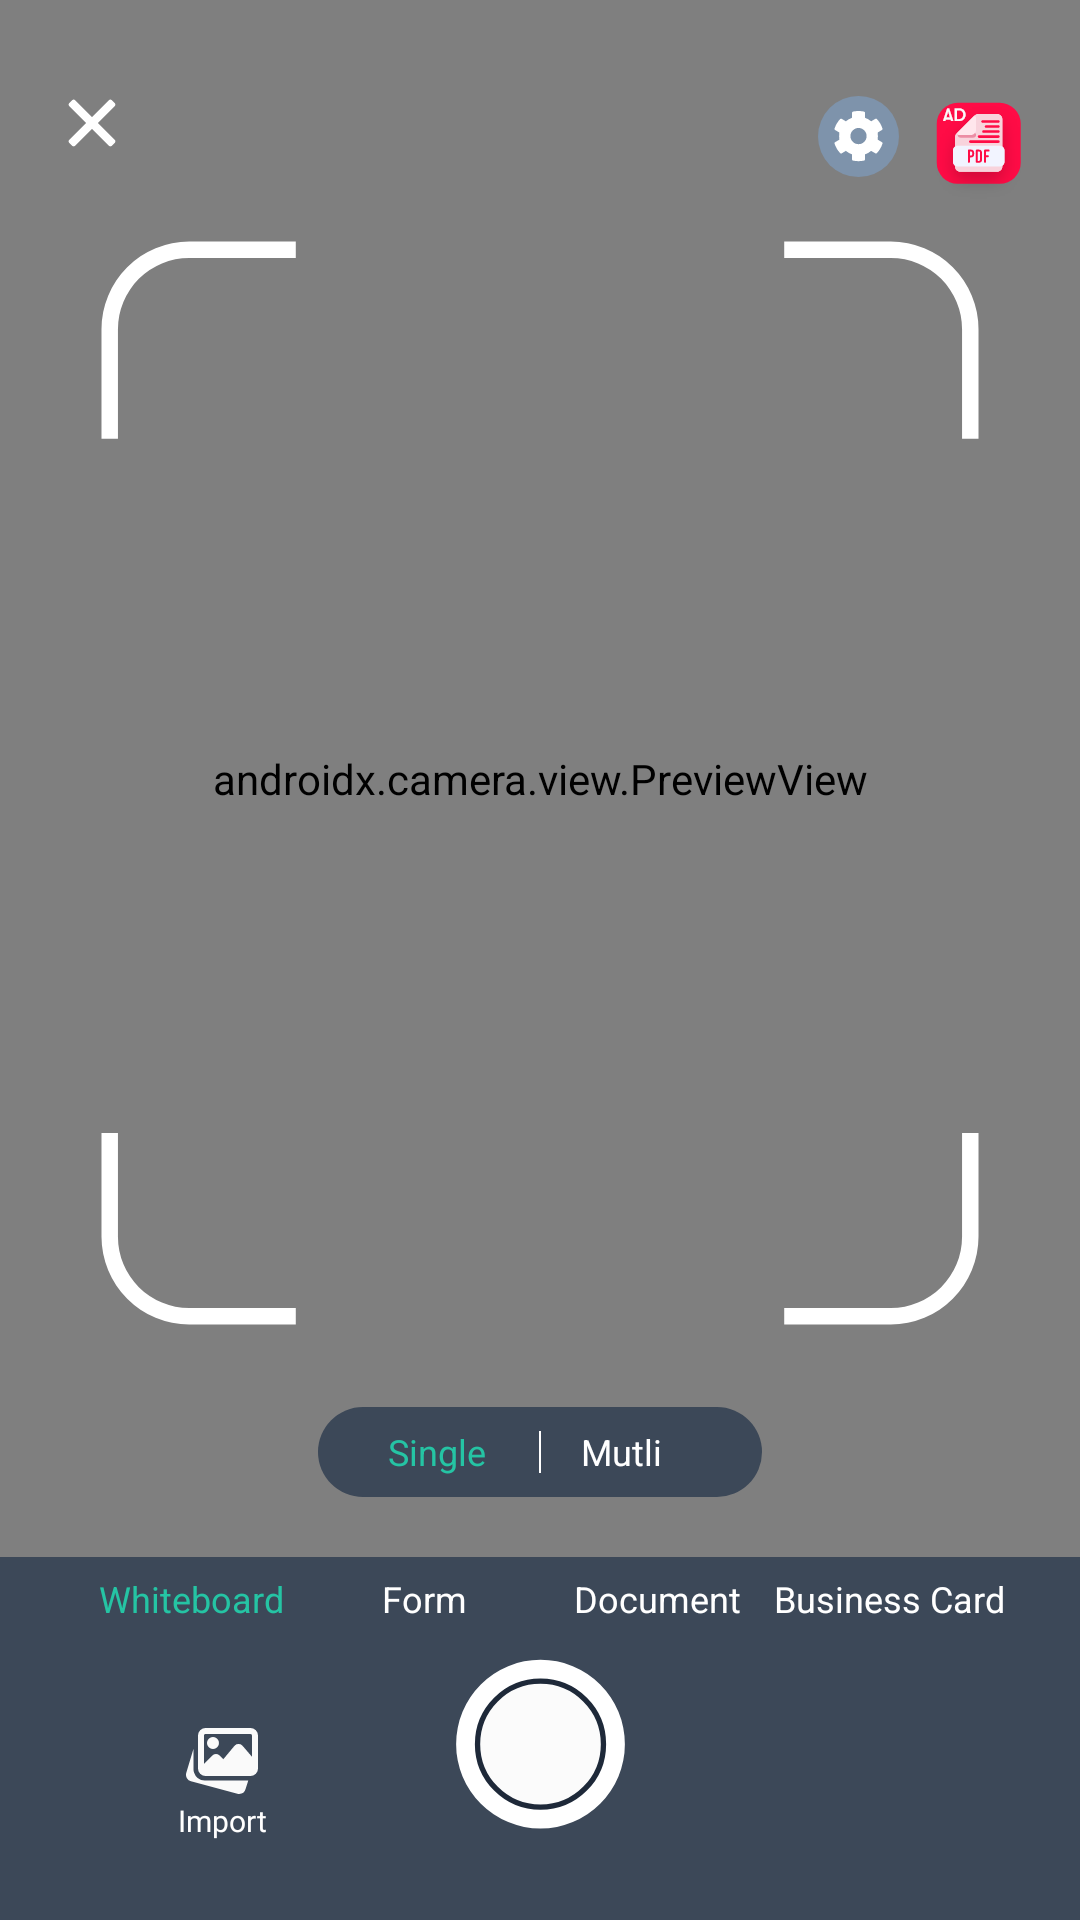

Icons on this 1080px×1920px Android screen, each with the point to tap as point (x, y):
close: point (92, 123)
scan touch: point (540, 1744)
setting: point (858, 136)
